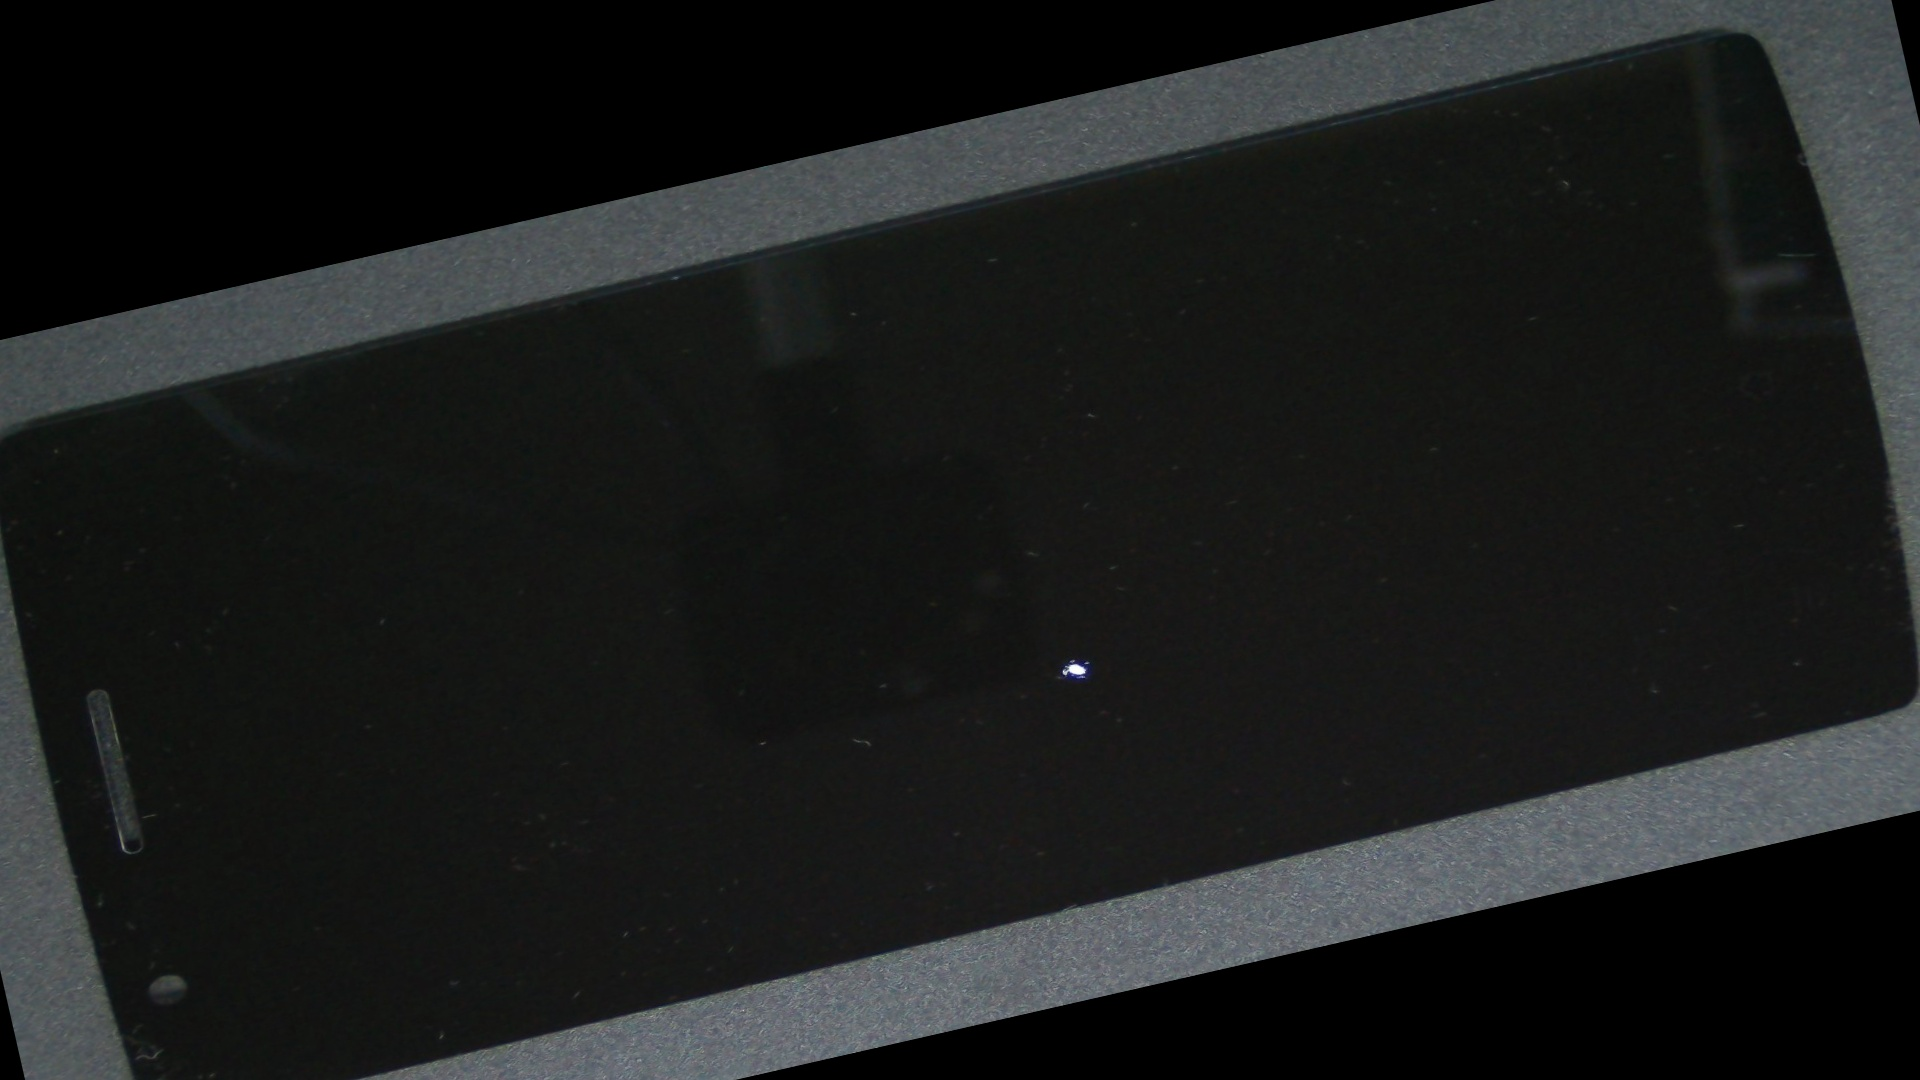oil: (468, 268, 1676, 1050)
